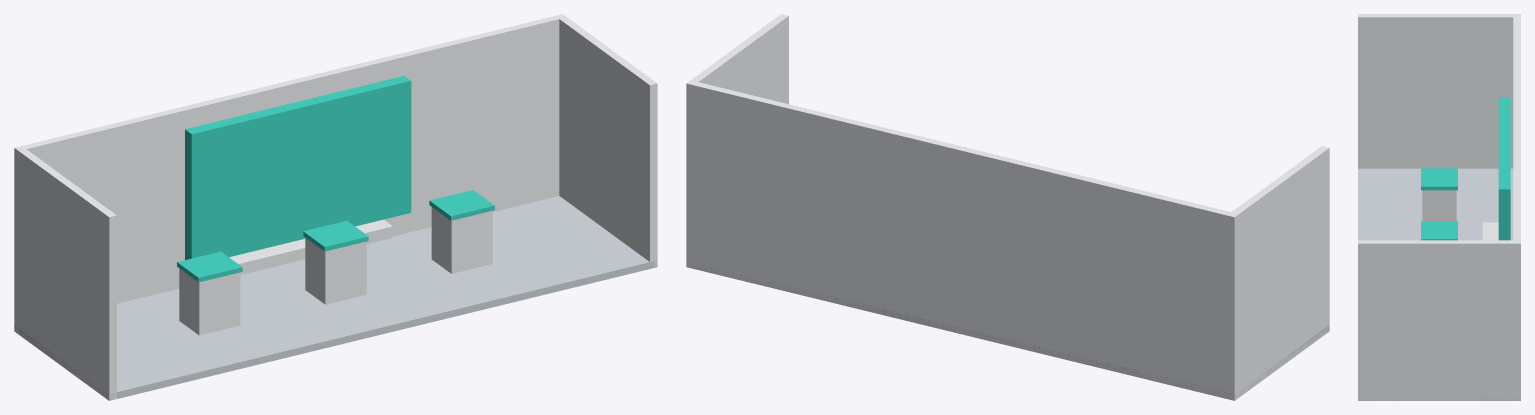
3 views of the same model, side by side, from view 1: azimuth 30°, elevation 25°; view 2: azimuth 150°, elevation 25°; view 3: azimuth 270°, elevation 25° (orthographic). The views are drawn at different scales.
Visible parts, largest first — view 1: Exhibition Booth Concept; view 2: Exhibition Booth Concept; view 3: Exhibition Booth Concept.
Boxes of the visible parts, <box> form: Exhibition Booth Concept: <box>14,14,657,400</box>; Exhibition Booth Concept: <box>686,14,1329,400</box>; Exhibition Booth Concept: <box>1358,14,1520,400</box>.
Size of the model in its own units: 10 by 3.2 by 3.
